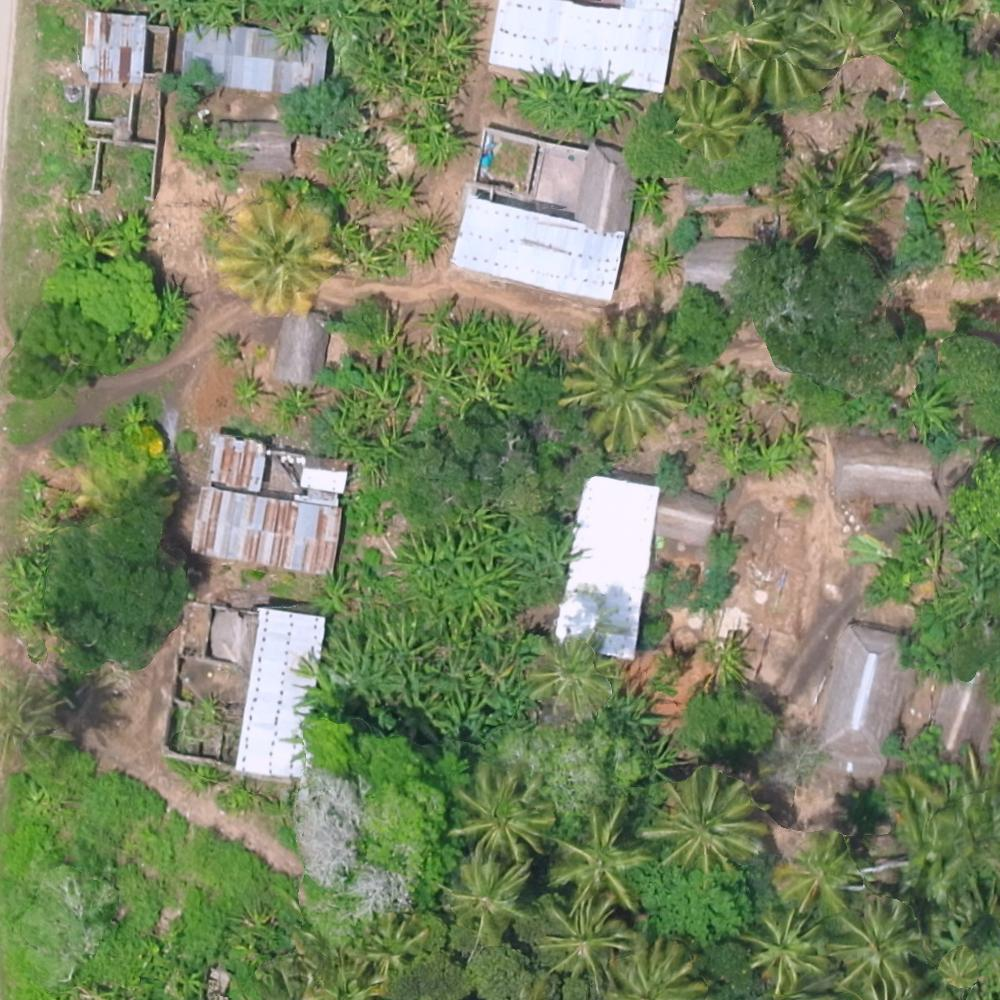Palm: (566, 328, 680, 440), (220, 201, 325, 309), (650, 771, 763, 863), (554, 802, 646, 908), (451, 767, 552, 861), (534, 901, 629, 982), (832, 901, 916, 986), (530, 638, 615, 716), (743, 912, 828, 990), (440, 863, 533, 932), (796, 175, 874, 250), (670, 81, 749, 154), (783, 834, 856, 912)
